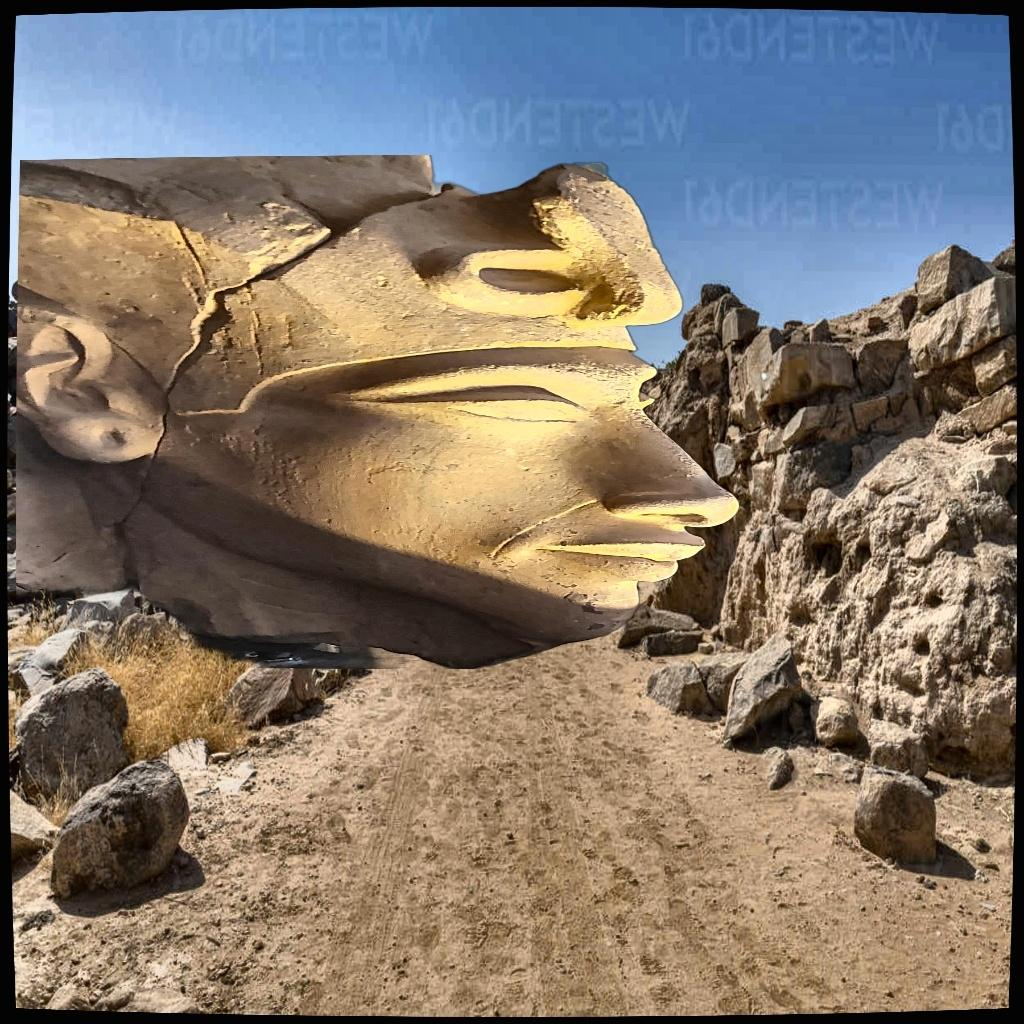Statue Head of Akhenaten: (16, 155, 746, 669)
